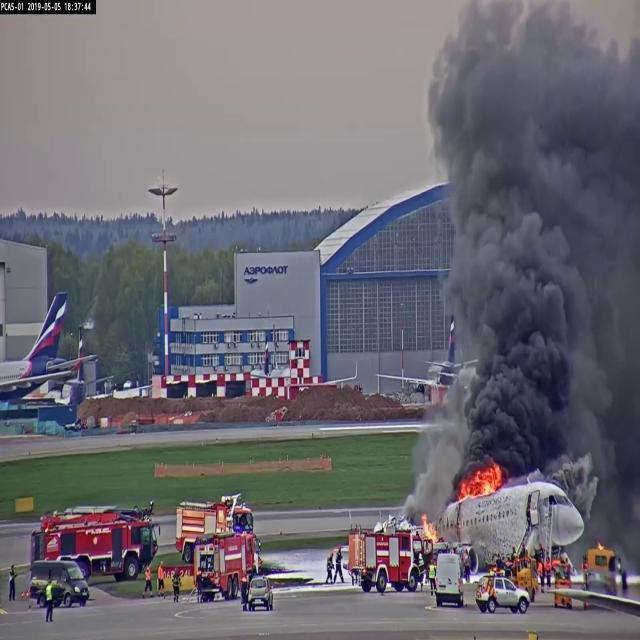Fire: (455, 464, 514, 507)
Smoke: (435, 26, 570, 436), (549, 24, 640, 473)
